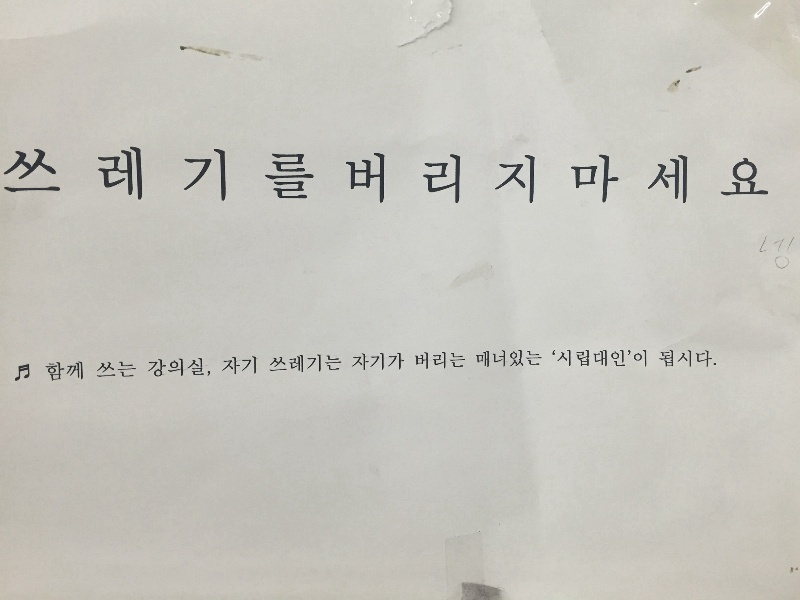text: (1, 143, 16, 207), (17, 143, 32, 207), (33, 143, 48, 207), (49, 143, 64, 207), (65, 143, 80, 207), (81, 143, 96, 207), (97, 143, 112, 207), (113, 143, 128, 207), (129, 143, 144, 207), (145, 143, 160, 207), (161, 143, 176, 207), (177, 143, 192, 207), (193, 143, 208, 207), (209, 143, 224, 207), (225, 143, 240, 207), (241, 143, 256, 207), (257, 143, 272, 207), (273, 143, 288, 207), (289, 143, 304, 207), (353, 151, 368, 210), (369, 151, 384, 210), (385, 151, 400, 210), (401, 151, 416, 210), (417, 151, 432, 210), (433, 151, 448, 210), (449, 151, 464, 210), (465, 151, 480, 210), (481, 151, 496, 210), (497, 151, 512, 210), (513, 151, 528, 210), (577, 153, 592, 209), (593, 153, 608, 209), (609, 153, 624, 209), (625, 153, 640, 209), (641, 153, 656, 209), (657, 153, 672, 209), (673, 153, 688, 209), (689, 153, 704, 209), (705, 153, 720, 209), (721, 153, 736, 209), (737, 153, 752, 209), (753, 153, 768, 209), (305, 143, 317, 207), (769, 233, 784, 272), (529, 151, 538, 210), (567, 153, 576, 209), (785, 233, 797, 272), (346, 151, 352, 210), (481, 348, 496, 369), (497, 348, 512, 369), (513, 348, 528, 369), (529, 348, 544, 369), (161, 357, 176, 378), (177, 357, 192, 378), (193, 357, 208, 378), (49, 361, 64, 382), (65, 361, 80, 382), (673, 348, 688, 368), (689, 348, 704, 368), (273, 354, 288, 374), (289, 354, 304, 374), (305, 354, 320, 374), (321, 354, 336, 374), (417, 351, 432, 370), (433, 351, 448, 370), (449, 351, 464, 370), (225, 356, 240, 375), (241, 356, 256, 375), (353, 352, 368, 371), (369, 352, 384, 371), (385, 352, 400, 371), (561, 350, 576, 368), (577, 350, 592, 368), (593, 350, 608, 368), (609, 350, 624, 368), (113, 361, 128, 378), (148, 357, 160, 378), (17, 364, 30, 383), (660, 348, 672, 368), (705, 348, 717, 368), (98, 361, 112, 378), (764, 233, 768, 272), (552, 350, 560, 368), (129, 361, 137, 378), (625, 350, 632, 368), (337, 354, 343, 374), (769, 153, 771, 209), (634, 350, 640, 368), (641, 350, 647, 368), (401, 352, 406, 371), (476, 348, 480, 369), (268, 354, 272, 374), (45, 361, 48, 382), (81, 361, 84, 382), (209, 357, 211, 378), (14, 364, 16, 383), (222, 356, 224, 375), (415, 351, 416, 370), (465, 351, 466, 370)
